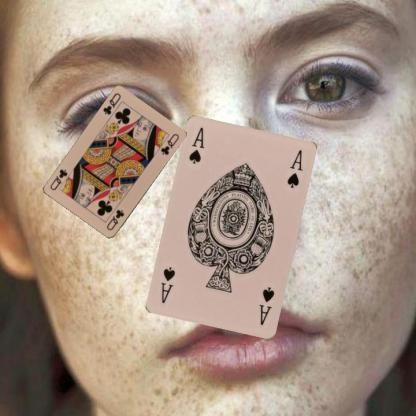As: (186, 125, 206, 166), (257, 284, 276, 327)
Qc: (100, 91, 122, 116), (104, 207, 125, 232)
